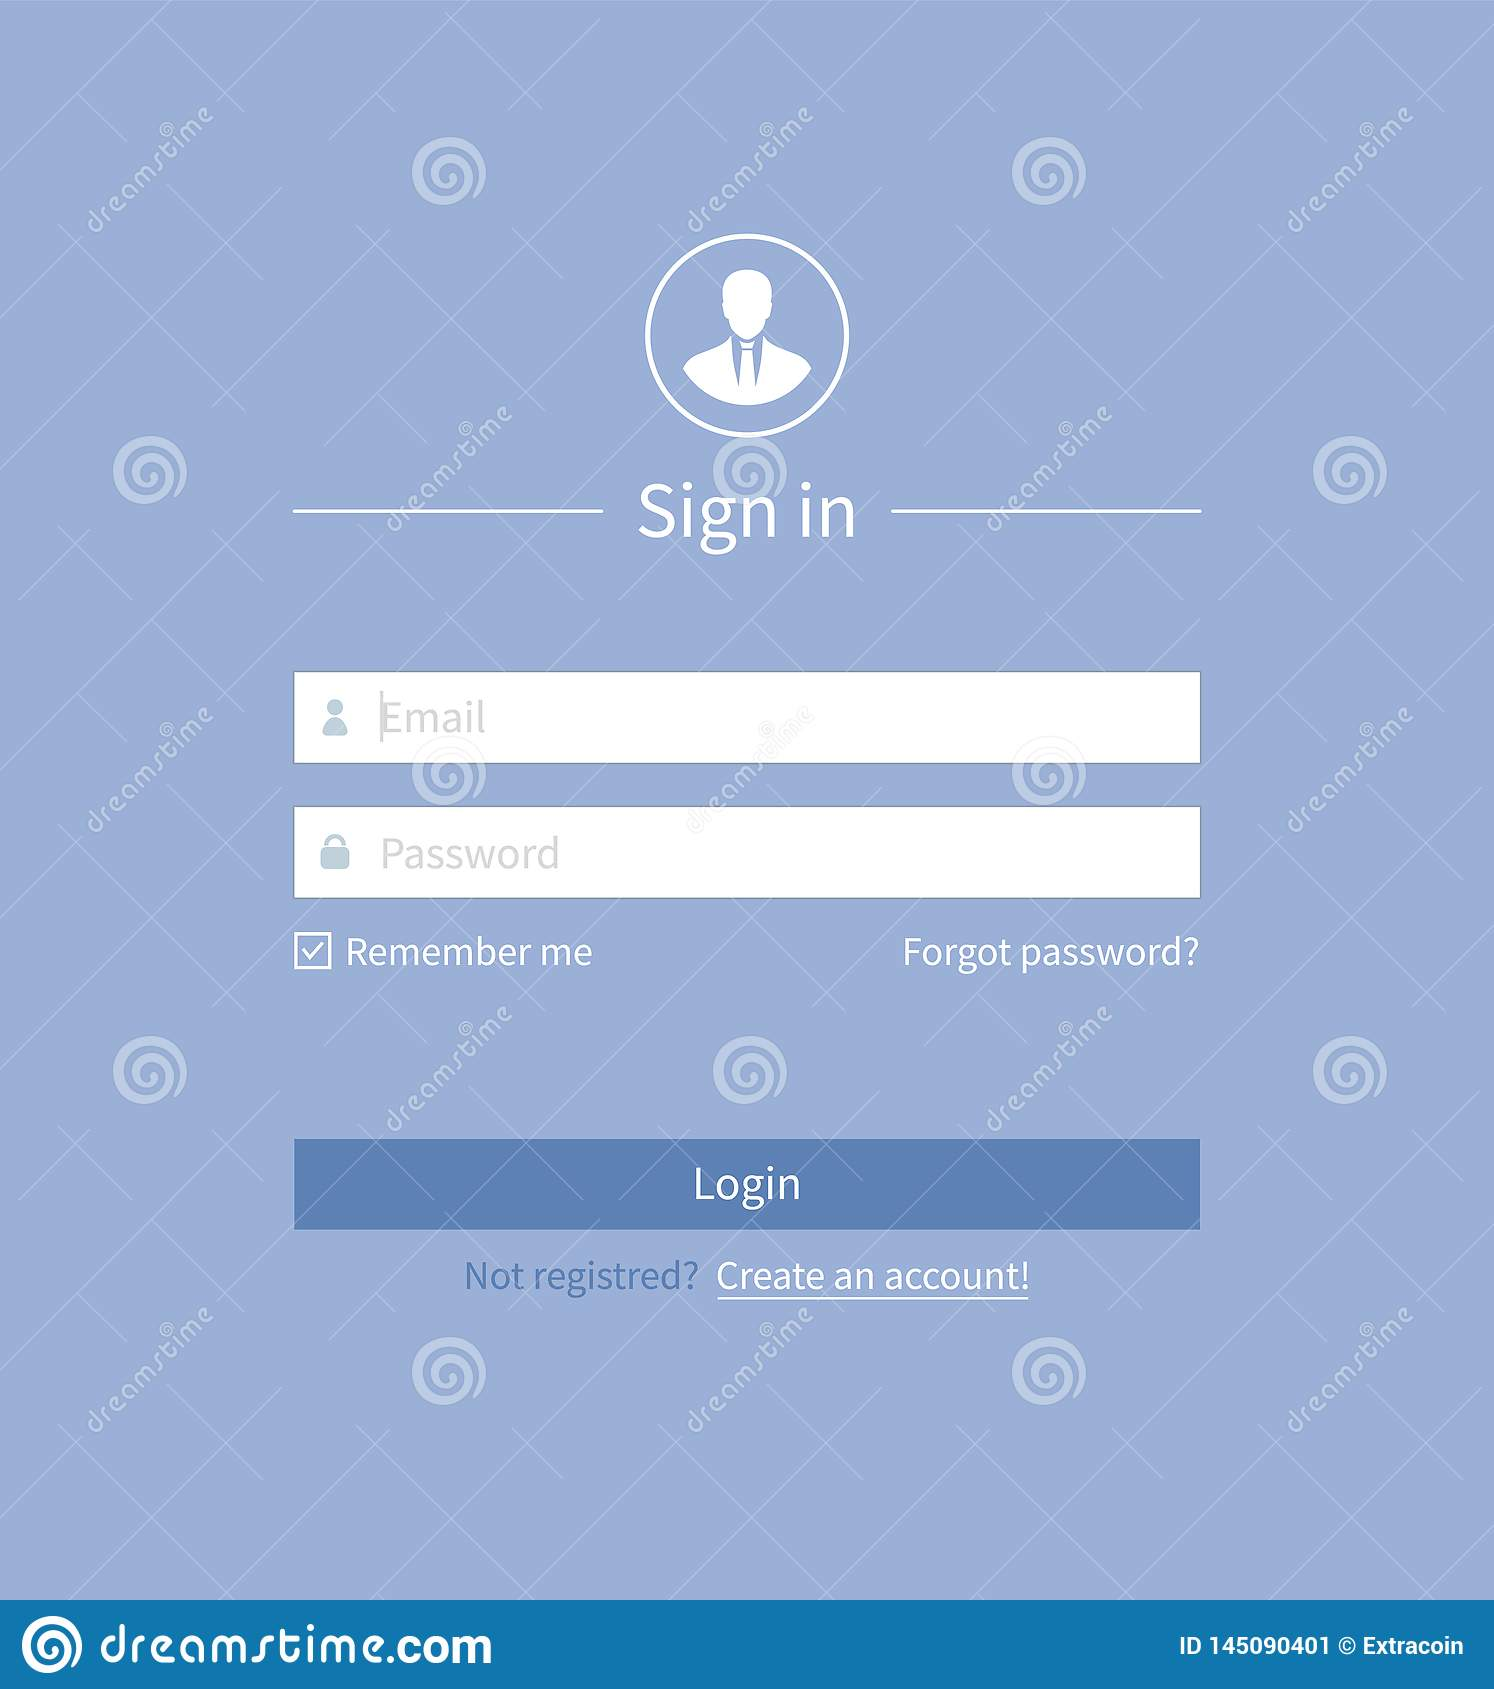_form_: (281, 622, 1214, 1261)
button: (288, 1137, 1203, 1236)
checkbox: (288, 926, 330, 975)
checkbox_with_label: (287, 922, 596, 979)
field: (288, 665, 1203, 770), (288, 801, 1210, 903)
